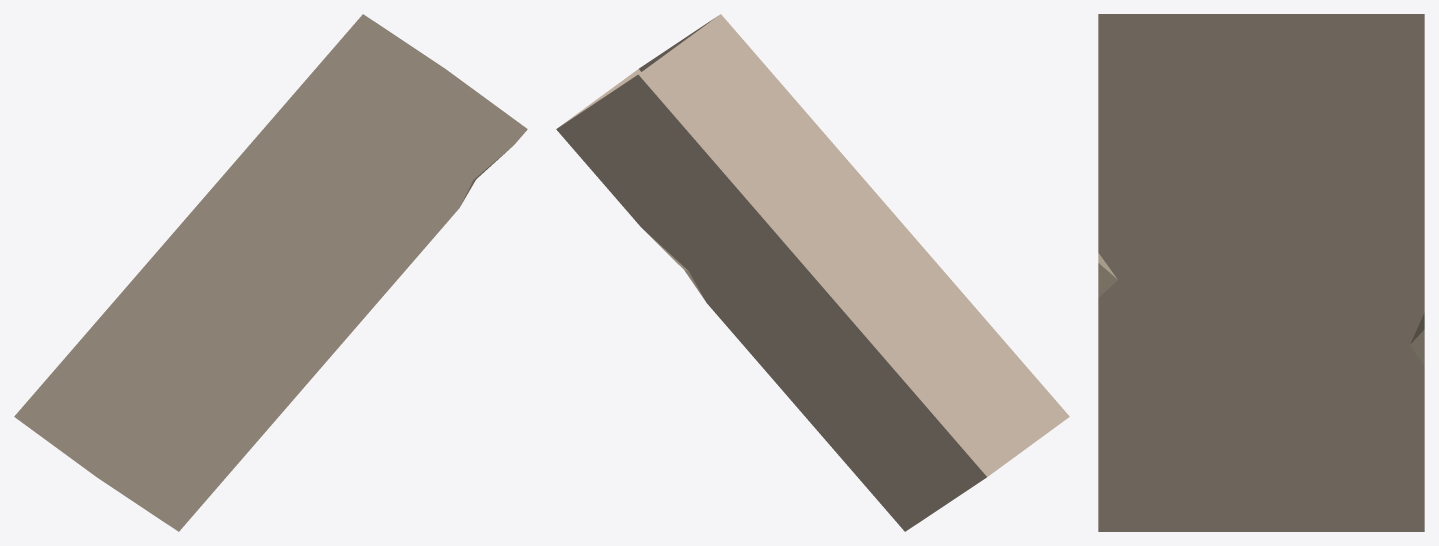
File: Cave_Prop_Support_Corner_Brace_1.glb
3 views of the same model, side by side, from view 1: azimuth 30°, elevation 25°; view 2: azimuth 150°, elevation 25°; view 3: azimuth 270°, elevation 25° (orthographic). The views are drawn at different scales.
Parts seen in each view (by area): view 1: Cave_Prop_Support_Corner_Brace_1; view 2: Cave_Prop_Support_Corner_Brace_1; view 3: Cave_Prop_Support_Corner_Brace_1.
Boxes of the visible parts, bbox=[...] form: Cave_Prop_Support_Corner_Brace_1: bbox=[14, 14, 527, 531]; Cave_Prop_Support_Corner_Brace_1: bbox=[556, 14, 1069, 531]; Cave_Prop_Support_Corner_Brace_1: bbox=[1098, 14, 1424, 531].
Size of the model in its own units: 0.3195 by 0.2779 by 0.106.
